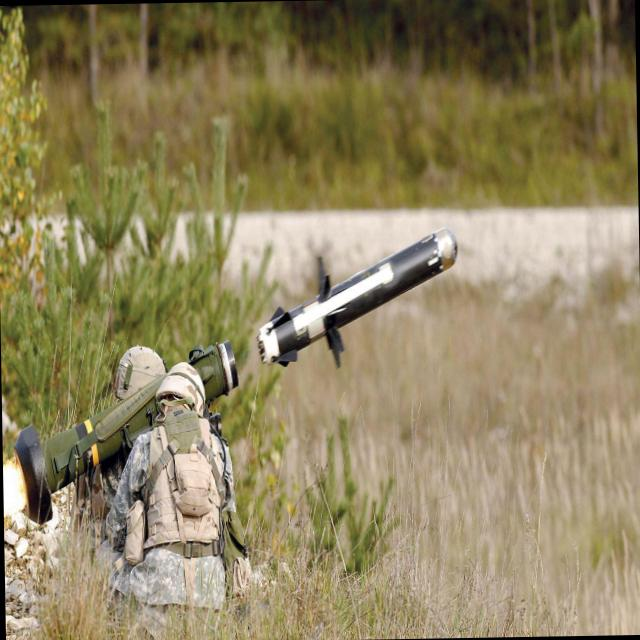rocket: (255, 223, 465, 397)
